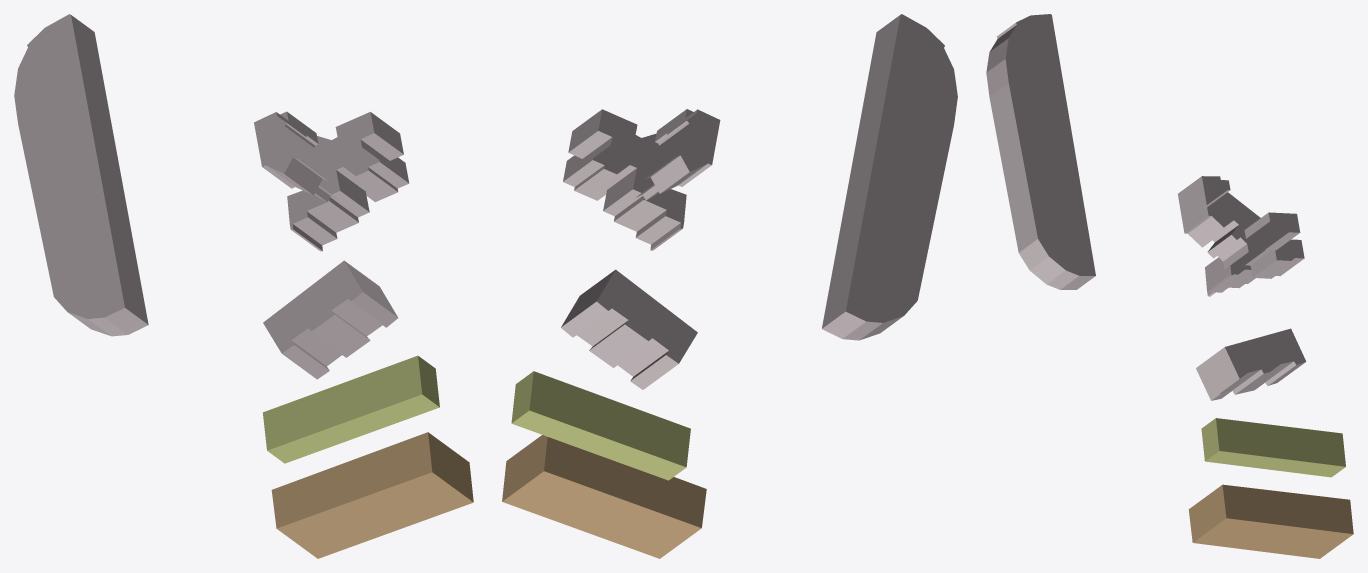
3 views of the same model, side by side, from view 1: azimuth 30°, elevation 25°; view 2: azimuth 150°, elevation 25°; view 3: azimuth 330°, elevation 25° (orthographic). The views are drawn at different scales.
Visible parts, largest first — view 1: 0_0_3_2_0_2_1; view 2: 0_0_3_2_0_2_1; view 3: 0_0_3_2_0_2_1.
Part boxes in pixels (x1,y1,x2,y2): 0_0_3_2_0_2_1: (14,14,473,558); 0_0_3_2_0_2_1: (502,14,957,558); 0_0_3_2_0_2_1: (986,14,1353,558).
Bounding box in the file's own units: 124 × 159 × 23.9.
